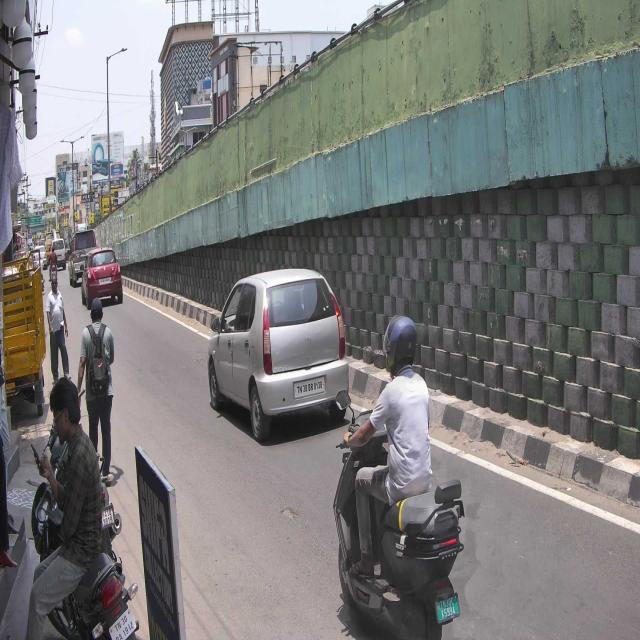single_rider: (333, 314, 466, 640)
